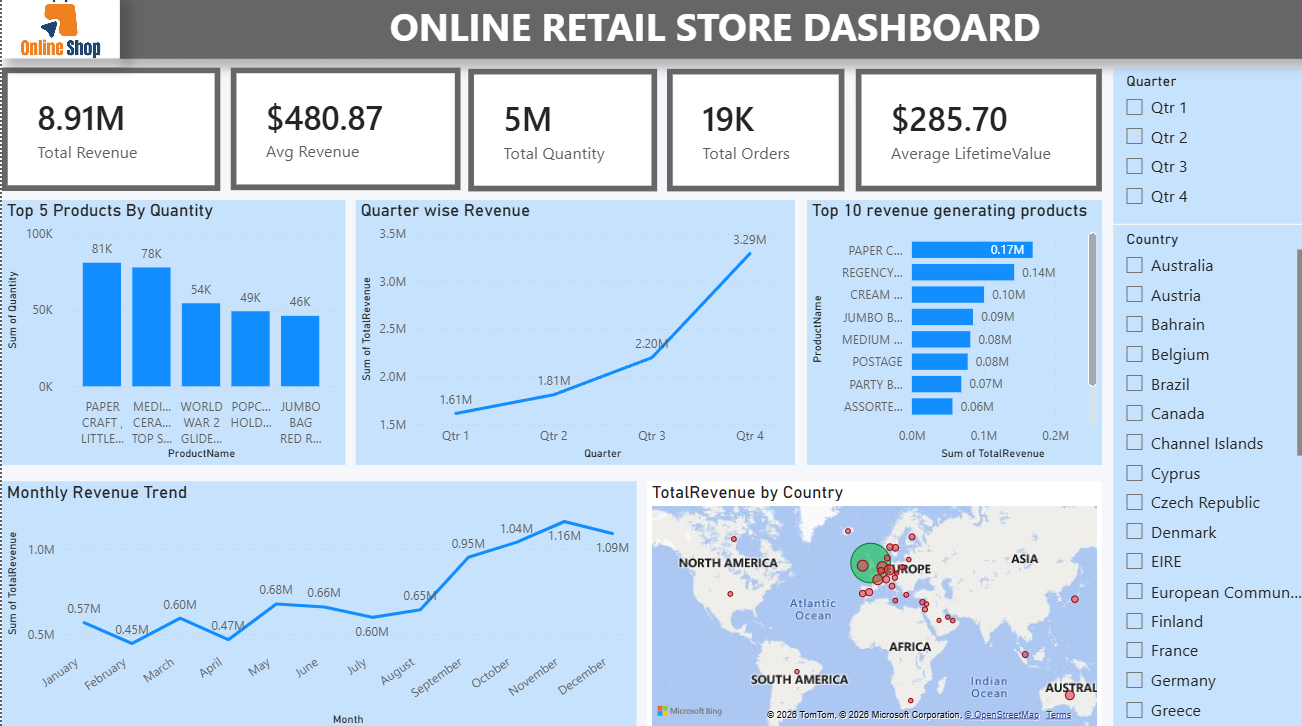

What the dashboard file says about the page in this screenshot:
{"tool":"powerbi","page":{"name":"Dashboard","canvas":[1280,720],"ordinal":0},"visuals":[{"type":"textbox","box":[114.9,0,1165.4,62.4],"z":0},{"type":"cardVisual","fields":{"Data":["Sum(sales_fact.TotalRevenue)"]},"box":[0,70.9,214,121.1],"z":1000},{"type":"cardVisual","fields":{"Data":["sales_fact.Total Orders"]},"box":[650.5,72.1,173.6,119.8],"z":2000},{"type":"cardVisual","fields":{"Data":["Sum(sales_fact.Quantity)"]},"box":[456.1,72.1,184.6,119.8],"z":3000},{"type":"cardVisual","fields":{"Data":["Avg(dimcustomers.LifetimeValue)"]},"box":[835.2,72.1,240.9,119.8],"z":4000},{"type":"cardVisual","fields":{"Data":["sales_fact.Avg Revenue"]},"box":[223.8,70.9,225,119.8],"z":5000},{"type":"lineChart","title":"Monthly Revenue Trend","fields":{"Category":["dimcalender.Date.Variation.Date Hierarchy.Month"],"Y":["Sum(sales_fact.TotalRevenue)"]},"box":[0,475.7,621.2,244.6],"z":6000},{"type":"map","title":"TotalRevenue by Country","fields":{"Category":["dimcustomers.Country"],"Size":["Sum(sales_fact.TotalRevenue)"]},"box":[631,475.7,445.1,244.6],"z":7000},{"type":"columnChart","title":"Top 5 Products By Quantity","fields":{"Category":["dimproduct.ProductName"],"Y":["Sum(sales_fact.Quantity)"]},"box":[0,200.5,336.3,259.2],"z":8000},{"type":"lineChart","title":"Quarter wise Revenue","fields":{"Category":["dimcalender.Date.Variation.Date Hierarchy.Quarter"],"Y":["Sum(sales_fact.TotalRevenue)"]},"box":[346.1,200.5,429.2,259.2],"z":9000},{"type":"barChart","title":"Top 10 revenue generating products","fields":{"Category":["dimproduct.ProductName"],"Y":["Sum(sales_fact.TotalRevenue)"]},"box":[787.5,200.5,288.6,259.2],"z":10000},{"type":"slicer","fields":{"Values":["dimcustomers.Country"]},"box":[1087.1,225,193.2,495.2],"z":11000},{"type":"slicer","fields":{"Values":["dimcalender.Date.Variation.Date Hierarchy.Quarter"]},"box":[1087.1,70.9,188.3,152.9],"z":12000},{"type":"image","box":[0,1.2,114.9,61.1],"z":13000}]}

Visuals, with their boxes in screenshot pixels (x1, y1, x2, y2), scaled from the page's 1280x720 canvas onto the 1302x726 screenshot:
textbox: 117/0/1301/63
cardVisual - Sum(sales_fact.TotalRevenue): 0/71/218/194
cardVisual - sales_fact.Total Orders: 662/73/838/193
cardVisual - Sum(sales_fact.Quantity): 464/73/652/193
cardVisual - Avg(dimcustomers.LifetimeValue): 850/73/1095/193
cardVisual - sales_fact.Avg Revenue: 228/71/457/192
"Monthly Revenue Trend" lineChart: 0/480/632/725
"TotalRevenue by Country" map: 642/480/1095/725
"Top 5 Products By Quantity" columnChart: 0/202/342/464
"Quarter wise Revenue" lineChart: 352/202/789/464
"Top 10 revenue generating products" barChart: 801/202/1095/464
slicer - dimcustomers.Country: 1106/227/1301/725
slicer - dimcalender.Date.Variation.Date Hierarchy.Quarter: 1106/71/1297/226
image: 0/1/117/63
